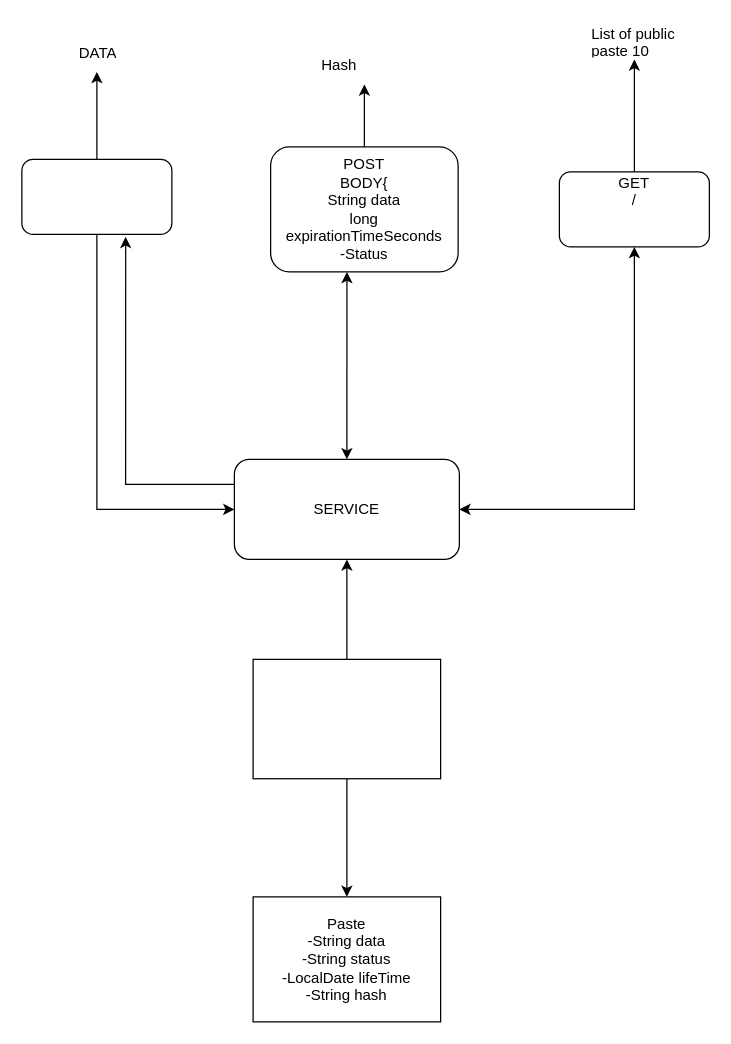
Image size: 731x1044. Some labels were removed from this diagram. Here are the shapes that lost their labels. From the top down, the centre of each, then its label:
point (96, 196): GET /{hash}
point (346, 718): PAST REPOSITORY
